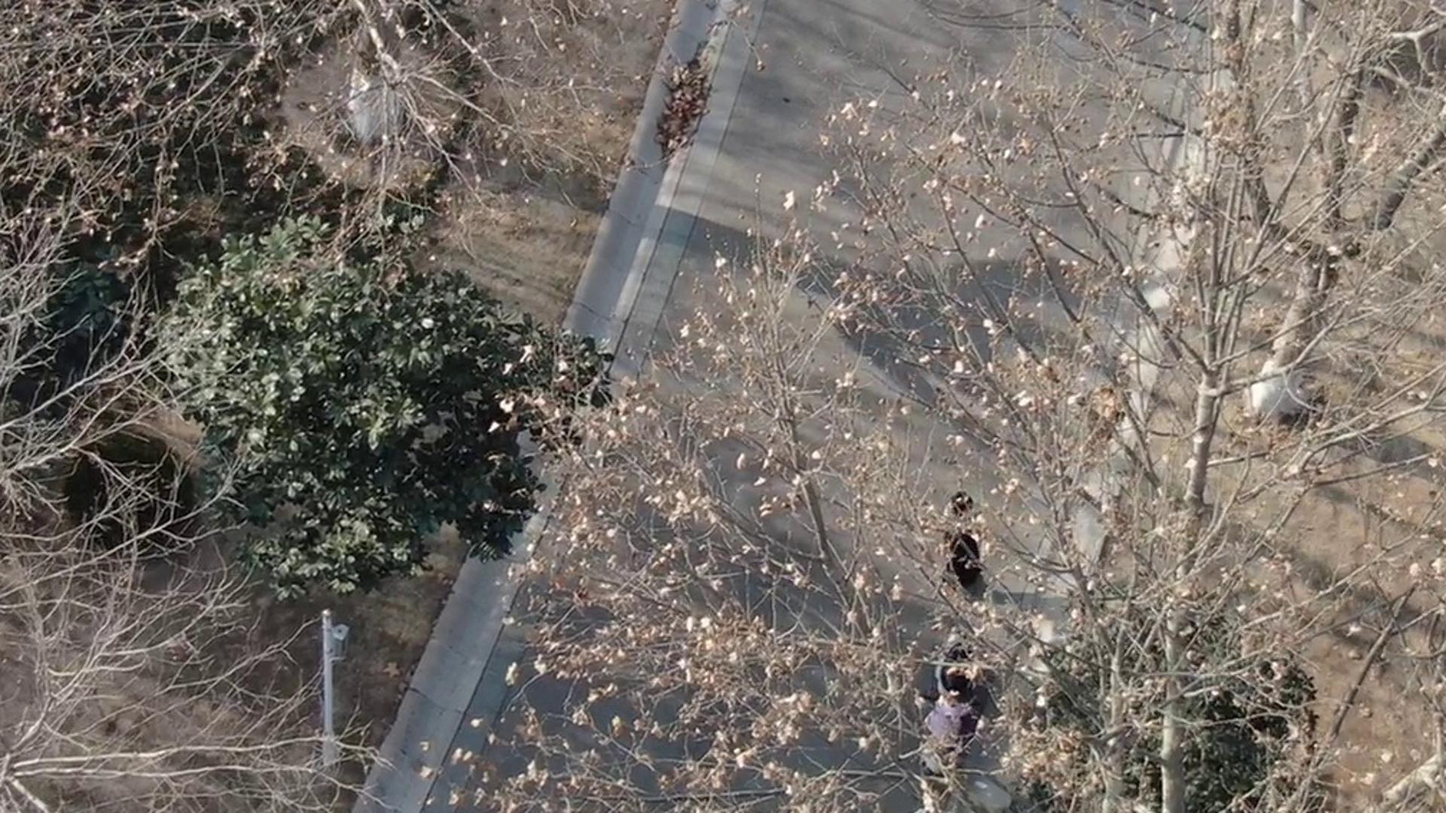human: (938, 468, 996, 597), (948, 611, 1001, 687)
